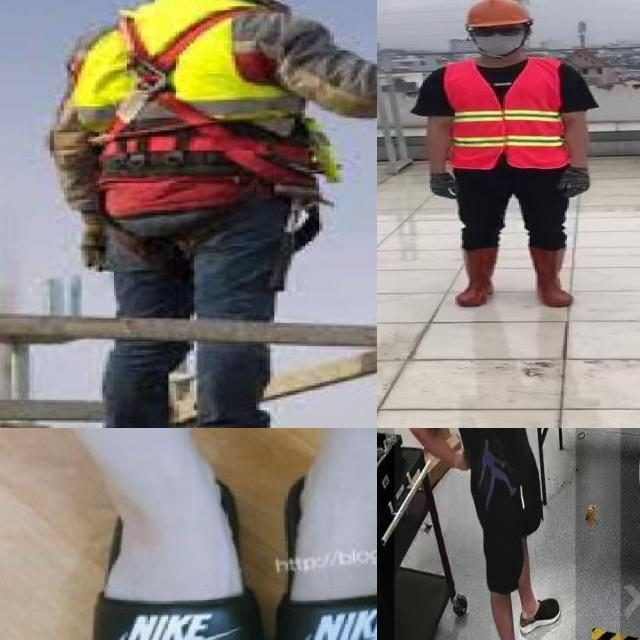Harness: (95, 3, 320, 290)
Sandals: (62, 473, 283, 640), (268, 444, 377, 640)
boots: (526, 244, 578, 310), (455, 246, 501, 307)
hand_noglove: (455, 449, 471, 474)
head_helmet: (458, 0, 532, 28)
person: (405, 0, 605, 314), (394, 428, 575, 640)
shoes: (518, 589, 565, 636)
vest: (446, 56, 567, 169)
